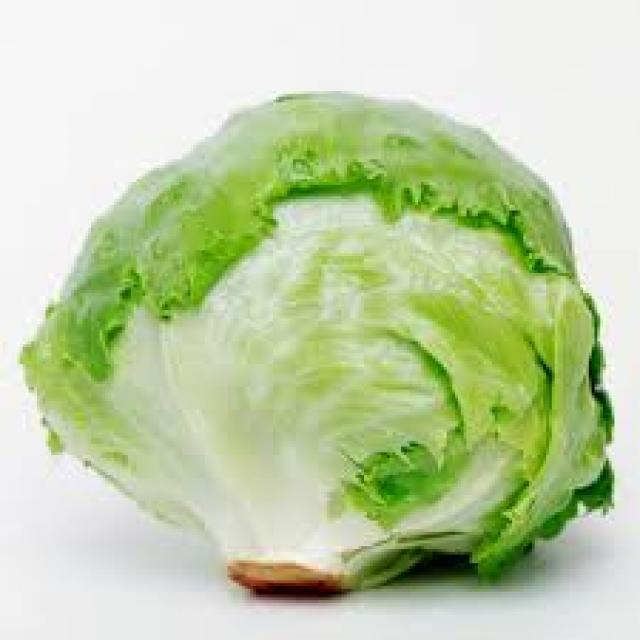Lettuce: (24, 85, 614, 593)
